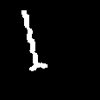half_double_crochet: (22, 11, 46, 70)
